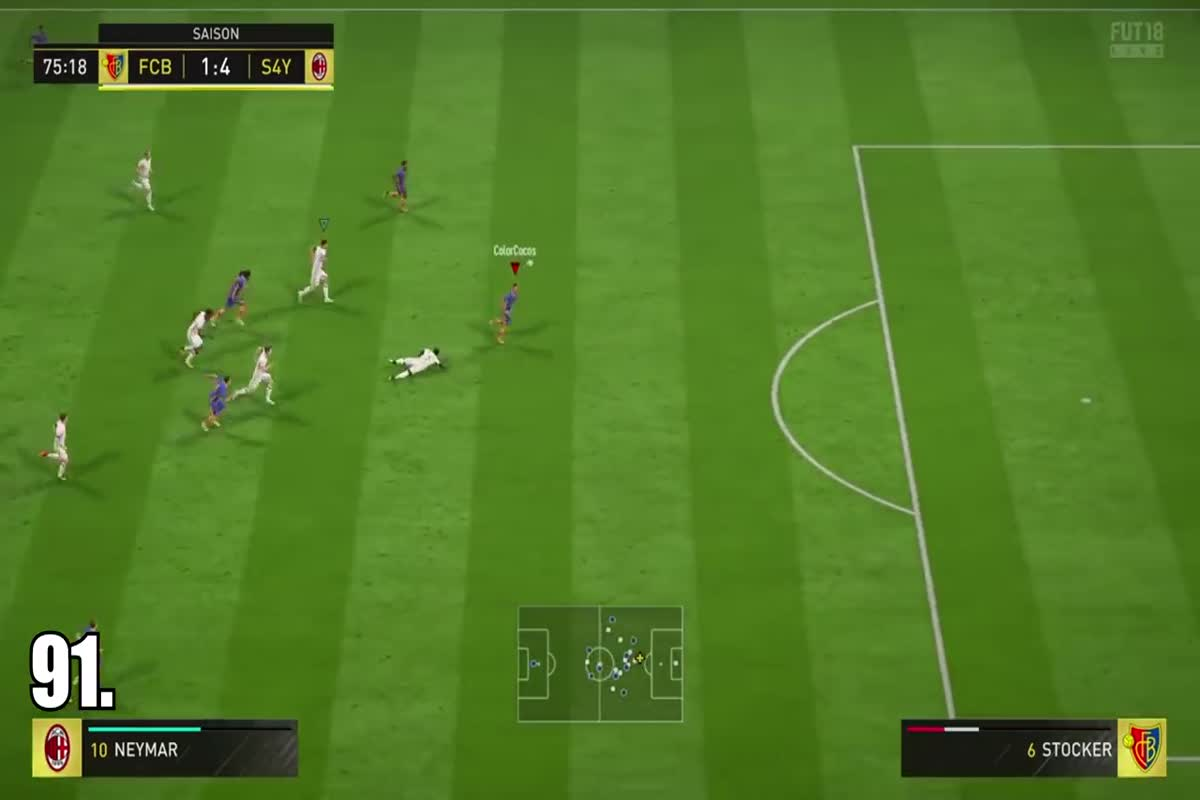ball: (521, 258, 546, 273)
